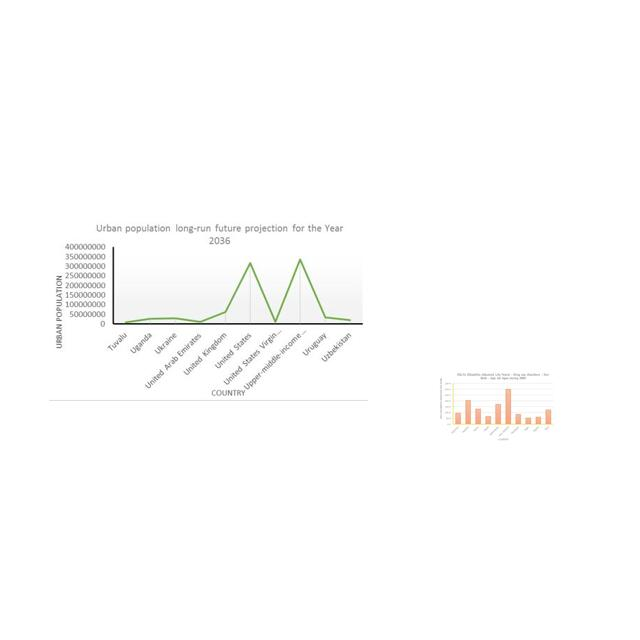Graph: (49, 222, 368, 401), (438, 371, 555, 442)
